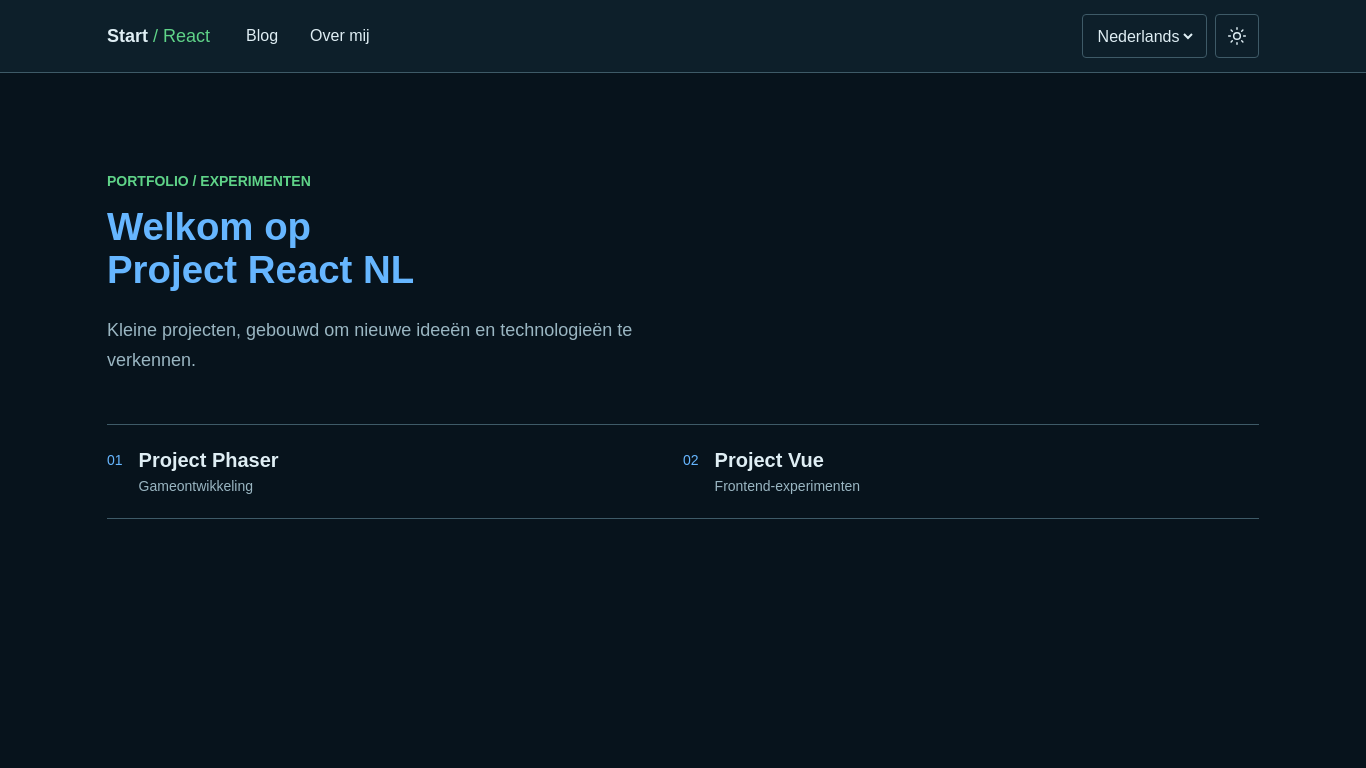
it: updates translated content and document language when language changes
Step 1. Select "Engels" in the dropdown named "Taal" → {"x": 1145, "y": 36}, box [1094,26,1196,46]
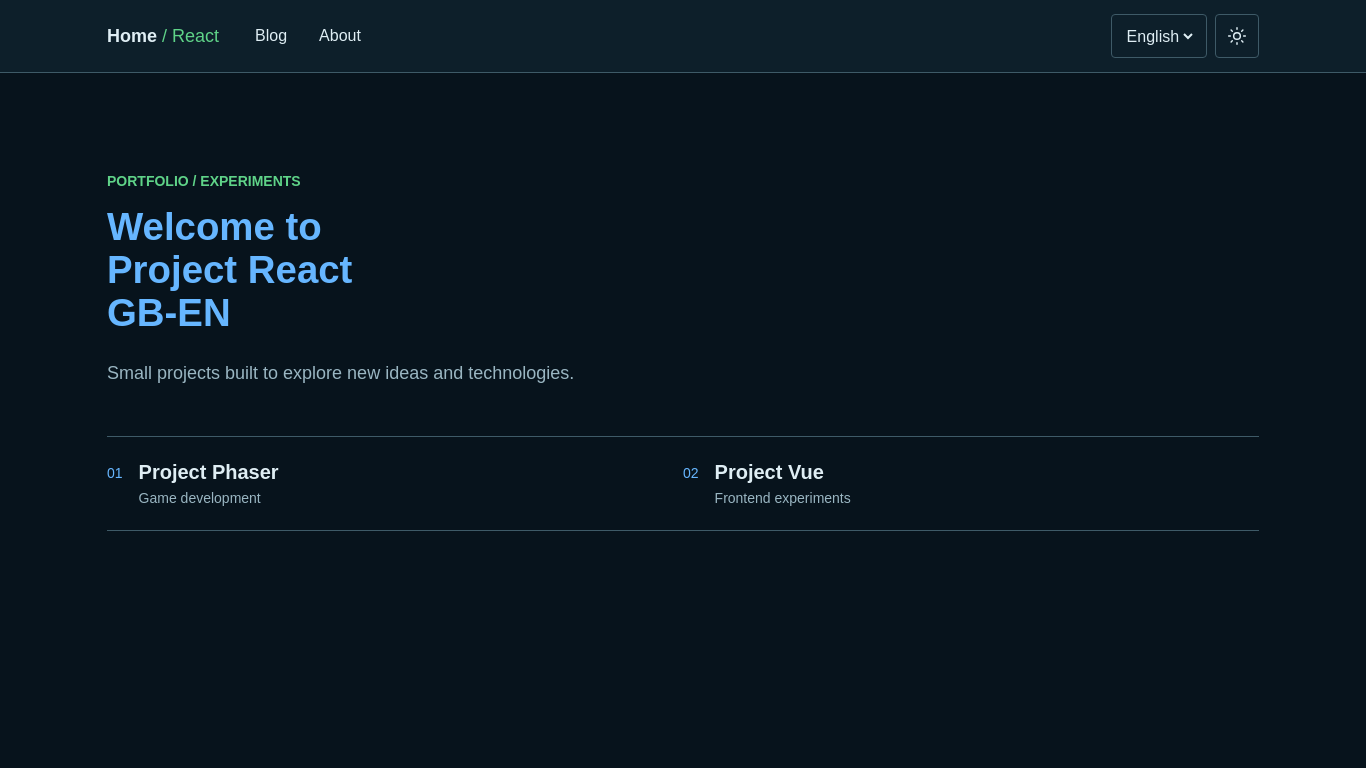
Result: the heading "Welcome to Project React GB-EN" is shown at [107,205,352,334]
Result: the text "Small projects built to explore new ideas and technologies." is shown at [107,363,574,383]
Result: the text "Game development" is shown at [139,490,261,506]
